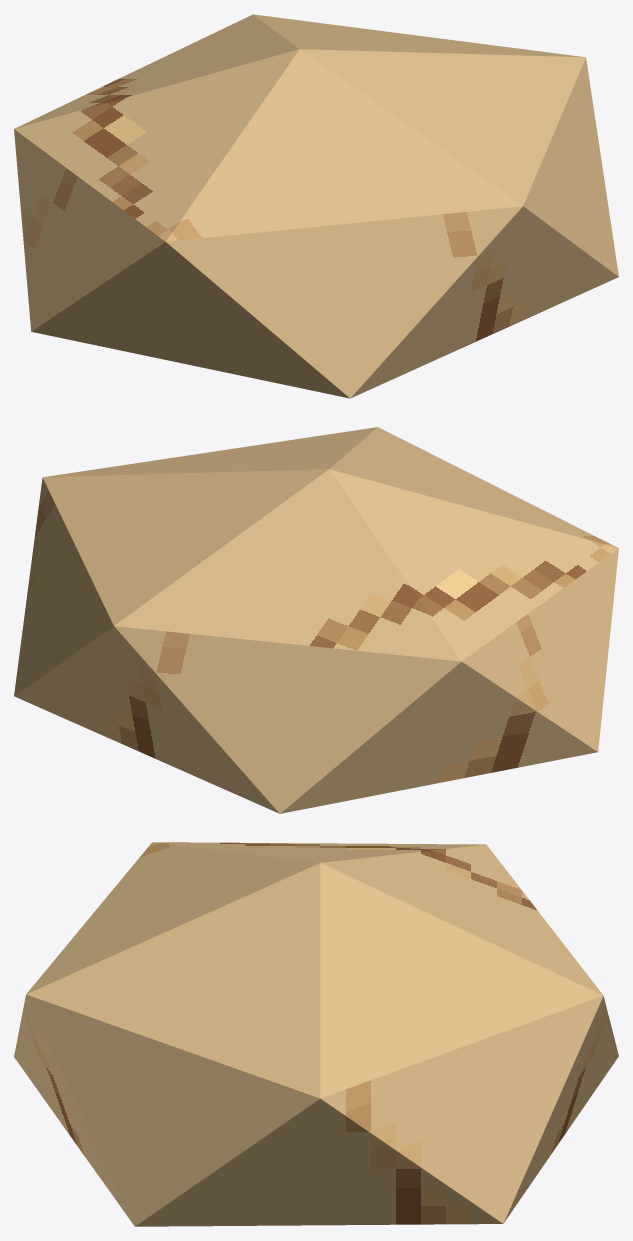
The model's file is enfeite_pedra_baixa.fbx.
3 renders of one model, top to bottom at view 1: azimuth 30°, elevation 25°; view 2: azimuth 150°, elevation 25°; view 3: azimuth 270°, elevation 25°, orthographic. The views are drawn at different scales.
Visible parts, largest first — view 1: deserto_enfeite_pedra_baixa; view 2: deserto_enfeite_pedra_baixa; view 3: deserto_enfeite_pedra_baixa.
Part boxes in pixels (x1,y1,x2,y2): deserto_enfeite_pedra_baixa: (14, 14, 618, 398); deserto_enfeite_pedra_baixa: (14, 427, 618, 813); deserto_enfeite_pedra_baixa: (14, 842, 618, 1226).
Size of the model in its own units: 43.04 by 22.64 by 37.54.
Materials: 1 (1 with a texture image).
